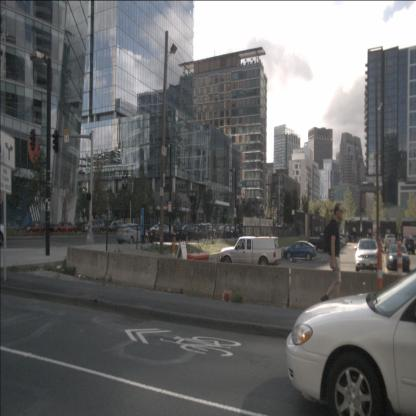human-pedestrian-adult: (320, 202, 343, 307)
movable_object-barrier: (187, 252, 209, 276)
movable_object-trafficcone: (373, 236, 387, 328), (392, 243, 406, 327), (169, 236, 177, 279)
vehicle-car: (285, 267, 415, 415), (355, 238, 379, 274), (283, 240, 317, 261), (386, 243, 410, 272), (115, 223, 148, 244), (148, 224, 176, 243), (174, 224, 200, 241), (50, 220, 77, 236), (0, 219, 25, 235), (24, 221, 49, 236), (82, 219, 106, 234), (197, 223, 217, 240), (218, 224, 234, 240), (402, 237, 415, 254), (107, 220, 124, 233), (329, 235, 346, 248), (0, 223, 8, 246), (372, 235, 382, 252), (334, 234, 348, 245), (237, 222, 247, 236), (230, 225, 239, 239), (346, 234, 356, 243), (410, 234, 415, 250)
vehicle-truck: (220, 236, 282, 269), (308, 233, 332, 253), (384, 234, 396, 251)
